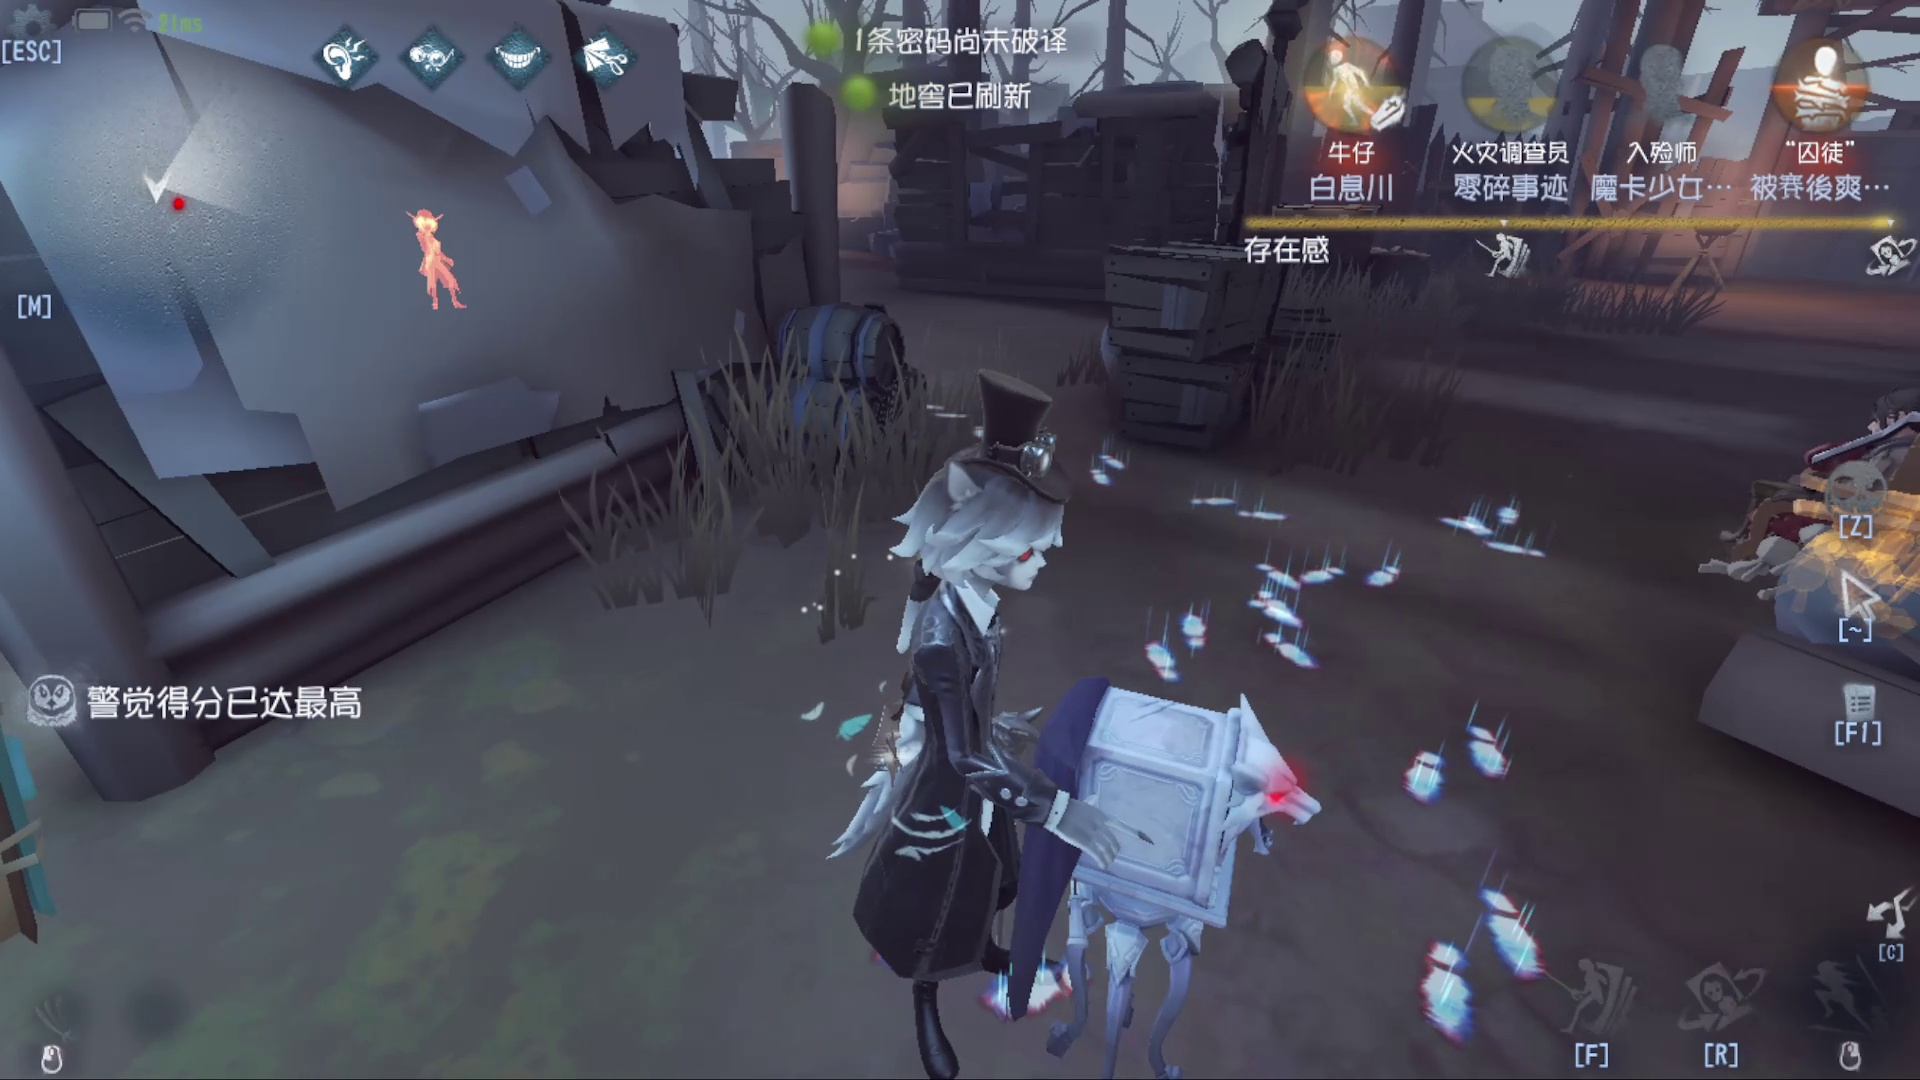求生者: (335, 173, 512, 339)
